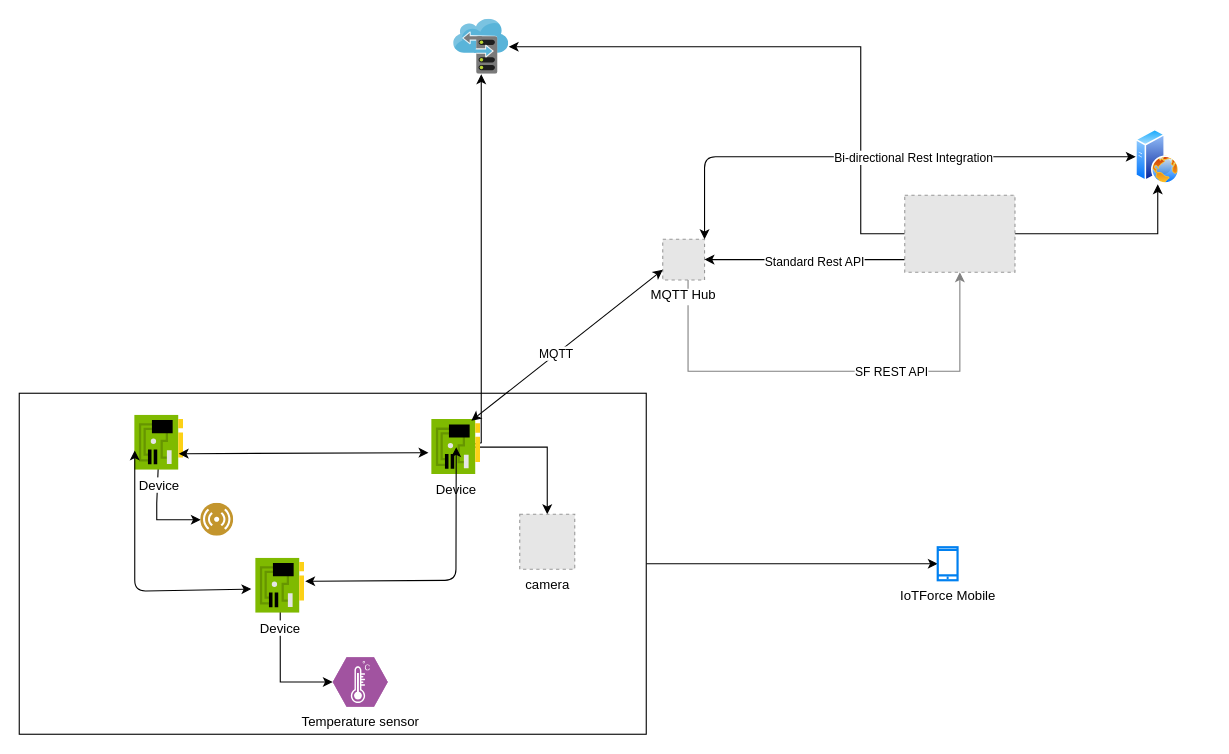
Some shapes in this 1229 by 754 pixel diagram are drawn without their labels. Grey dashed boxes stand in for pictures. Here are the shapes that lost their labels. From the top down, the box of each, then its label:
(453, 19, 508, 74): External Service (Rest API, Image Server)
(1135, 129, 1179, 184): External solutions
(200, 503, 233, 536): Movement sensor
